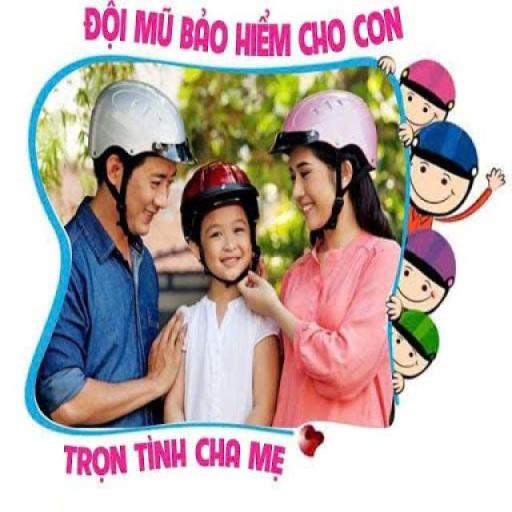with helmet: (88, 77, 198, 169), (268, 88, 379, 174), (179, 156, 259, 237)
